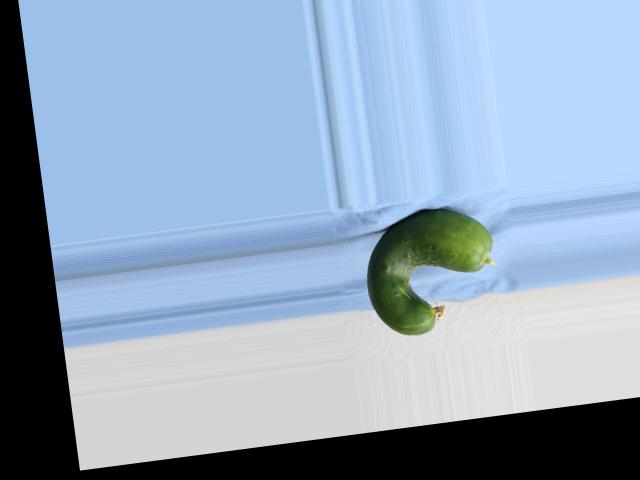cucumber: (358, 202, 503, 340)
